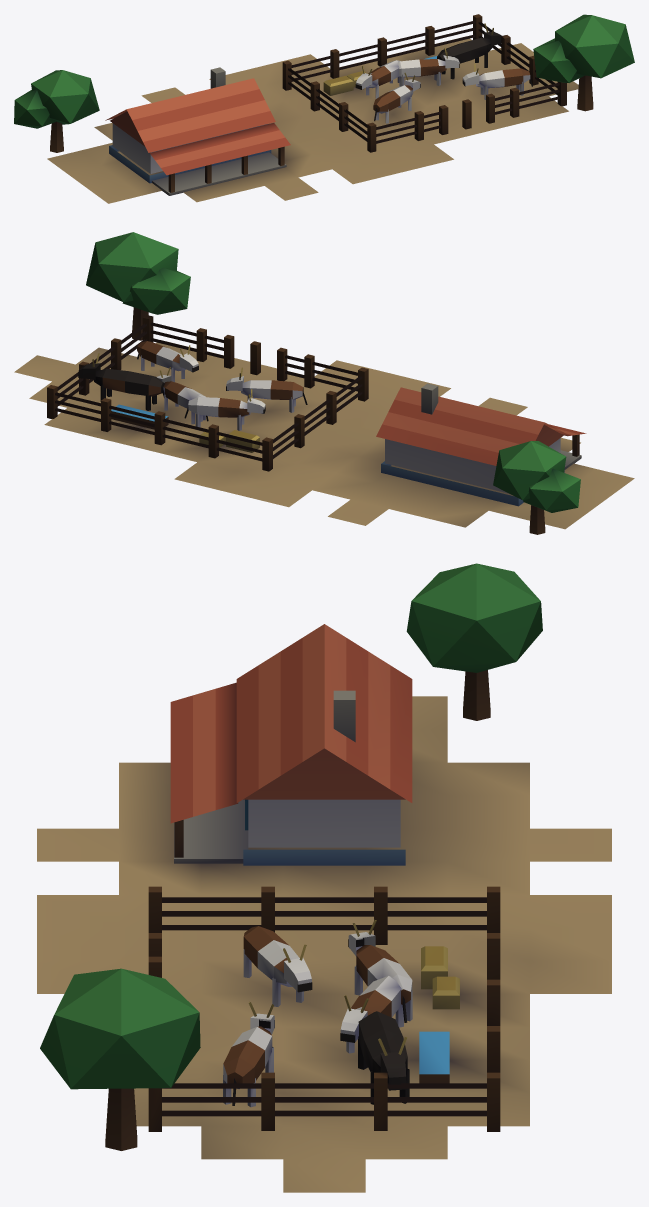
File: hato_llanos.glb
3 views of the same model, one above another, from view 1: azimuth 30°, elevation 25°; view 2: azimuth 150°, elevation 25°; view 3: azimuth 270°, elevation 25° (orthographic). The views are drawn at different scales.
Parts seen in each view (by area): view 1: ground, house, trees, corral, cow_3, cow_5, cow_2, cow_1, cow_4; view 2: ground, house, trees, corral, cow_5, cow_4, cow_1, cow_3, cow_2; view 3: ground, house, trees, corral, cow_1, cow_5, cow_3, cow_4, cow_2.
Boxes of the visible parts, left/top/right/bottom form: ground: left=47, top=36, right=578, bottom=203; house: left=105, top=67, right=290, bottom=195; trees: left=14, top=14, right=634, bottom=152; corral: left=282, top=14, right=566, bottom=152; cow_3: left=462, top=63, right=532, bottom=99; cow_5: left=437, top=23, right=501, bottom=79; cow_2: left=397, top=47, right=459, bottom=86; cow_1: left=373, top=72, right=420, bottom=123; cow_4: left=355, top=60, right=400, bottom=98; ground: left=14, top=341, right=634, bottom=529; house: left=376, top=383, right=586, bottom=506; trees: left=86, top=232, right=580, bottom=534; corral: left=47, top=315, right=368, bottom=471; cow_5: left=78, top=353, right=164, bottom=410; cow_4: left=184, top=389, right=265, bottom=430; cow_1: left=226, top=367, right=307, bottom=412; cow_3: left=137, top=341, right=198, bottom=382; cow_2: left=157, top=367, right=208, bottom=424; ground: left=37, top=696, right=611, bottom=1192; house: left=170, top=624, right=412, bottom=865; trees: left=40, top=563, right=542, bottom=1150; corral: left=148, top=886, right=500, bottom=1131; cow_1: left=243, top=926, right=312, bottom=1006; cow_5: left=358, top=1011, right=409, bottom=1104; cow_3: left=223, top=1002, right=274, bottom=1107; cow_4: left=348, top=919, right=412, bottom=1022; cow_2: left=340, top=975, right=403, bottom=1053.
Bounding box in the file's own units: 72.4 × 11.82 × 34.
